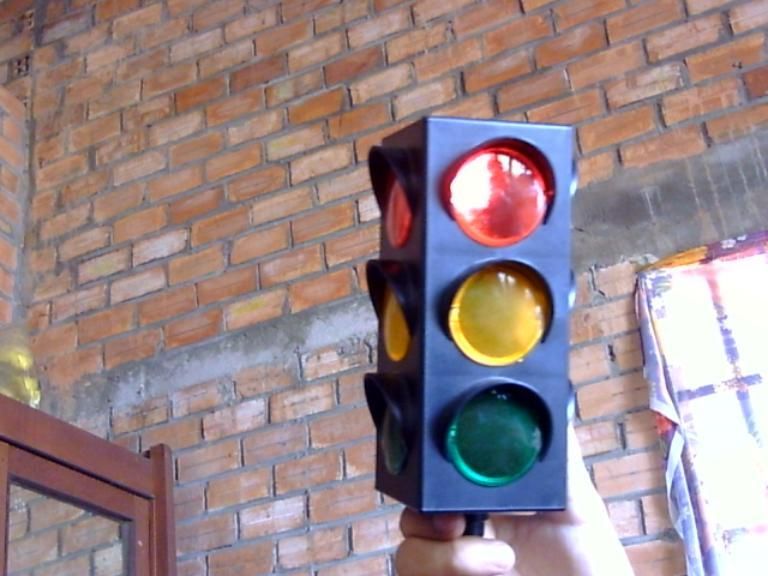red: (428, 122, 564, 256)
